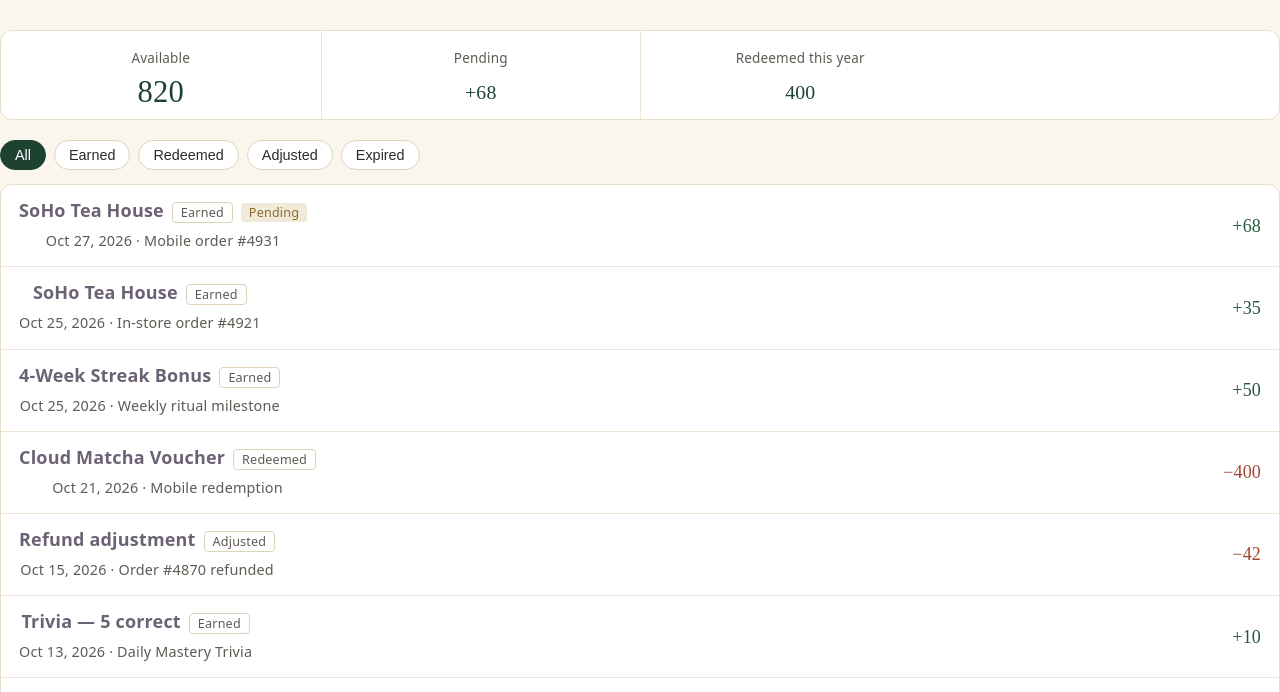
Test case: LeavesHistory › filters by type
Click the button "Redeemed".
click(189, 155)  # box [138,140,239,170]
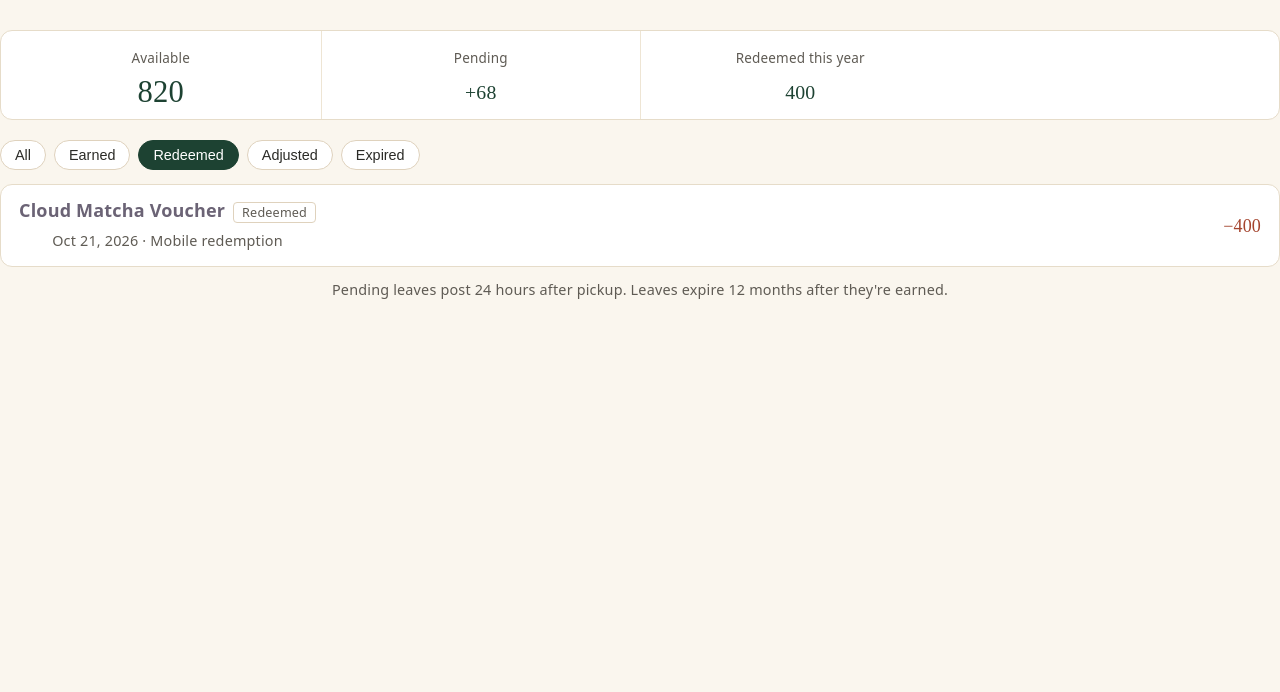
Expected: the text "Cloud Matcha Voucher" is shown, [19,198,225,222]
Result: the text "SoHo Tea House" is gone
